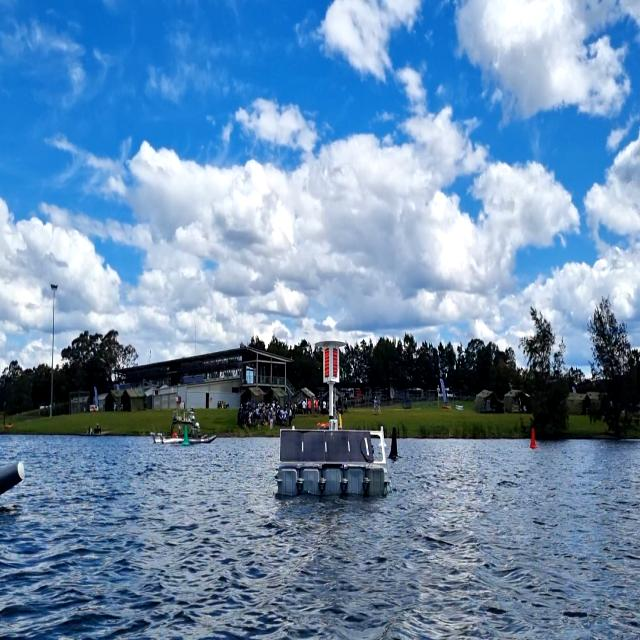led: (332, 346, 338, 380), (324, 348, 330, 378)
